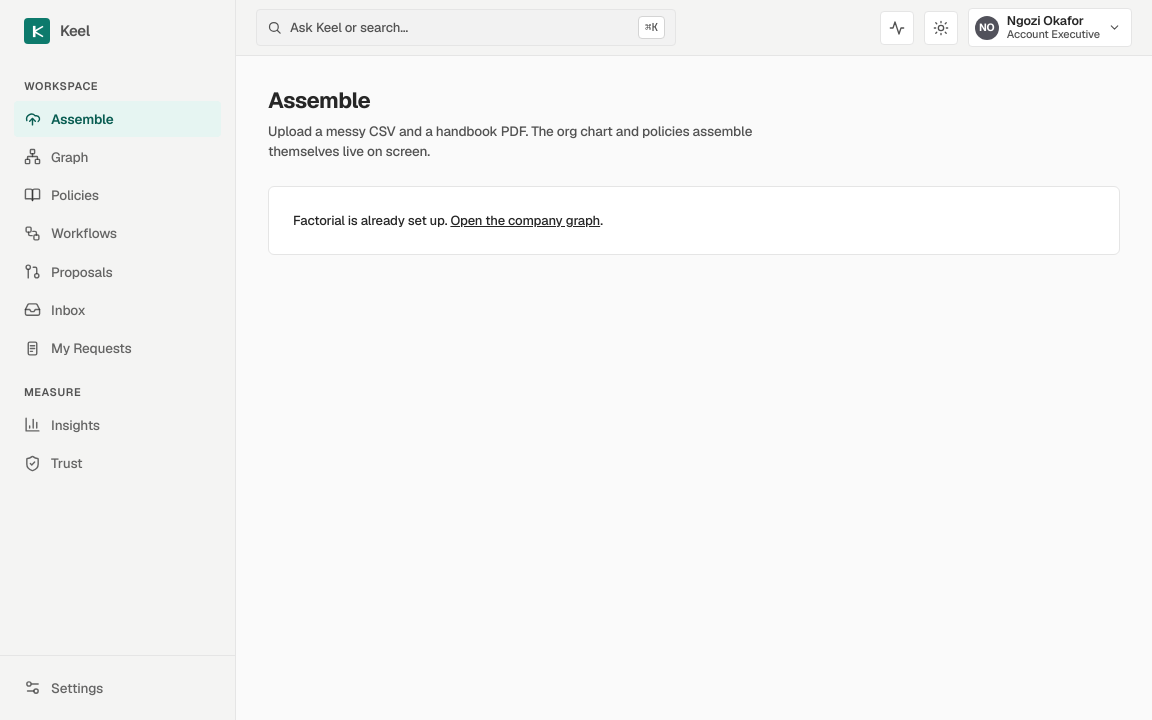
it: CommandBar › conversations › starts a new conversation from "New conversation", forgetting the open one
The width and height of the screenshot is (1152, 720).
Type keys "{Meta>}k{/Meta}"
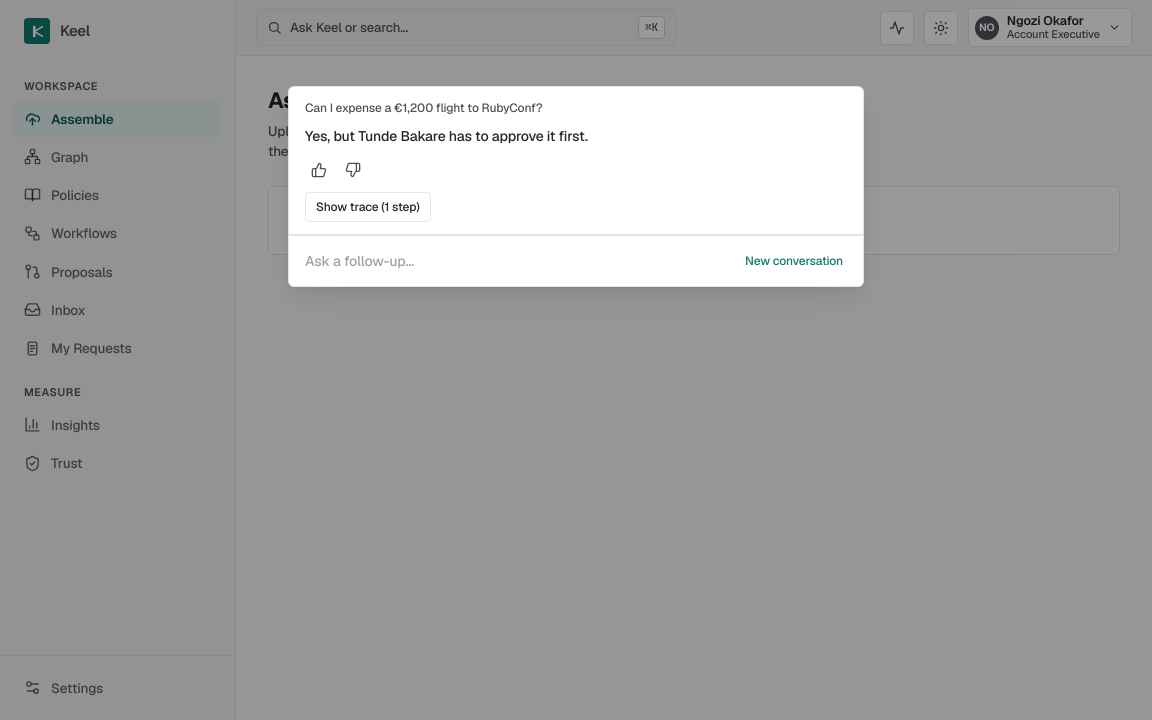
Click the button "New conversation".
click(794, 261)  # box left=735, top=246, right=853, bottom=276
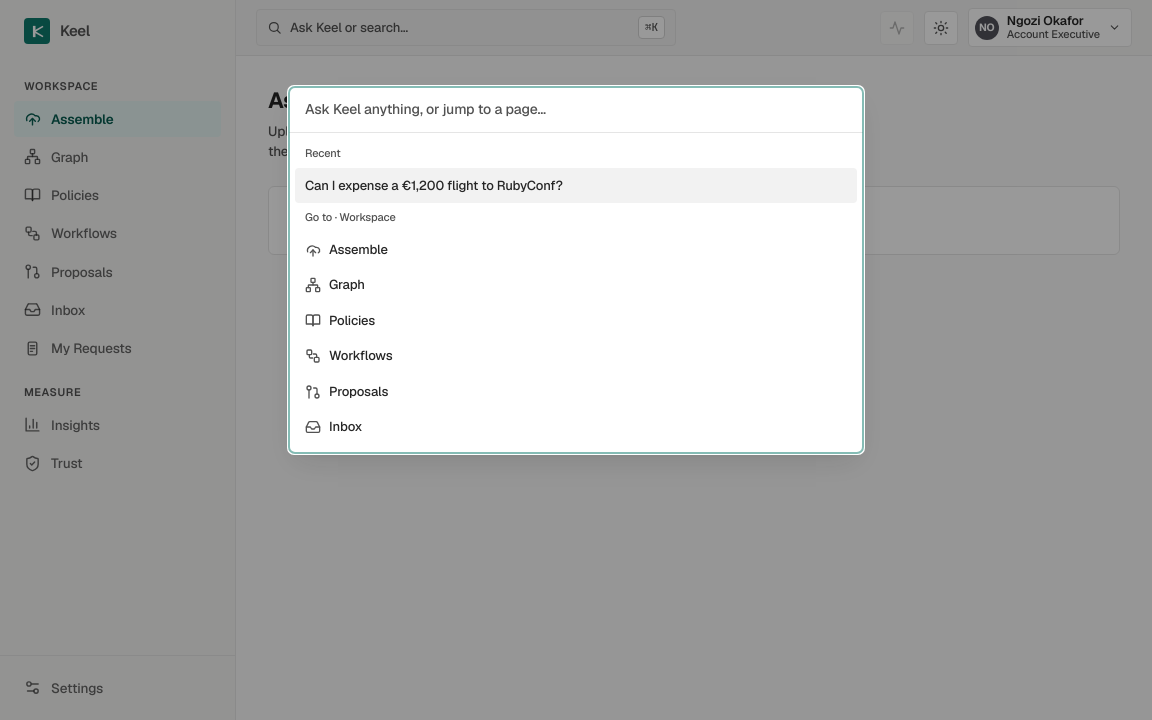
expect the option "Can I expense a €1,200 flight to RubyConf?" is shown: met, box left=295, top=168, right=857, bottom=203
expect the dropdown is shown: met, box left=289, top=87, right=863, bottom=133
